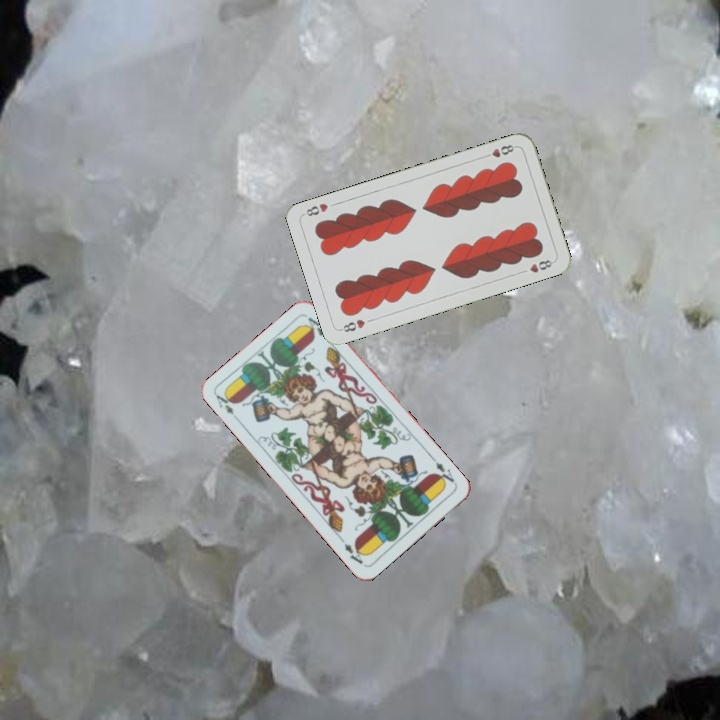EA: (428, 454, 459, 488), (212, 388, 237, 417)
H8: (479, 141, 519, 161), (337, 315, 368, 335)
